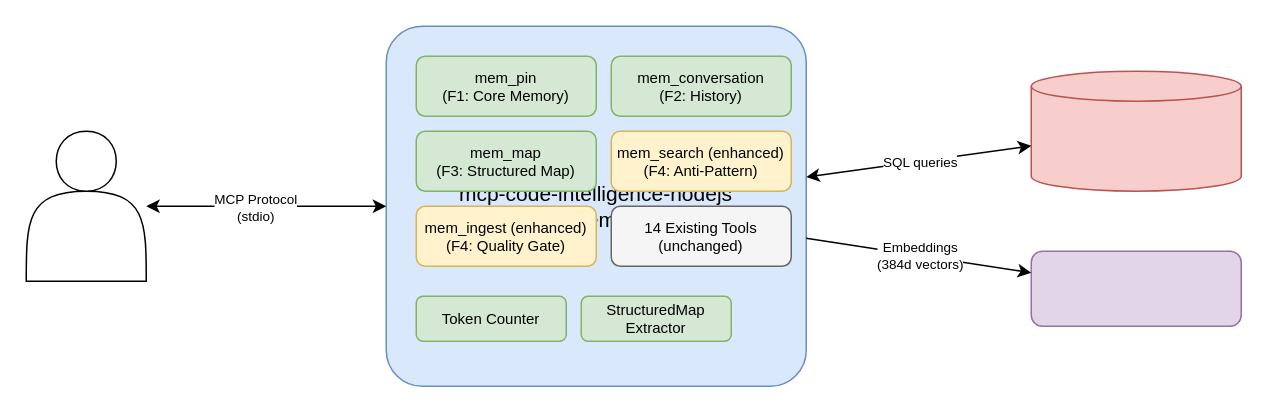
Some shapes in this 1268 by 413 pixel diagram are drawn without their labels. The shapes that lost their labels are listed below. From the top down, each one's centre as x and y in pixels, then its label:
At point 1135,130: "SQLite Database (.code-intel/index.db)".
At point 85,205: "AI Agent (Client)".
At point 1135,288: "ONNX Runtime (all-MiniLM-L6-v2)".
